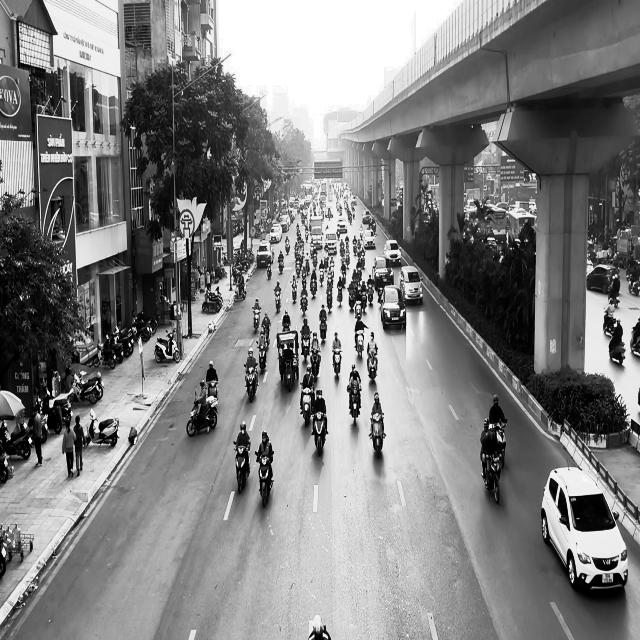car: (540, 465, 628, 592), (378, 284, 406, 329)
motorbike: (186, 392, 218, 436), (481, 444, 504, 504), (255, 450, 274, 508), (233, 441, 250, 494), (154, 329, 180, 363), (278, 348, 296, 392), (311, 411, 328, 456), (369, 411, 385, 458), (300, 382, 314, 427), (243, 362, 258, 402), (347, 384, 361, 425), (608, 335, 626, 364), (366, 347, 378, 382), (256, 339, 268, 373), (300, 329, 310, 364), (354, 328, 365, 358), (310, 348, 321, 377), (332, 348, 342, 377), (319, 315, 328, 342), (273, 287, 282, 312), (252, 307, 260, 332)
